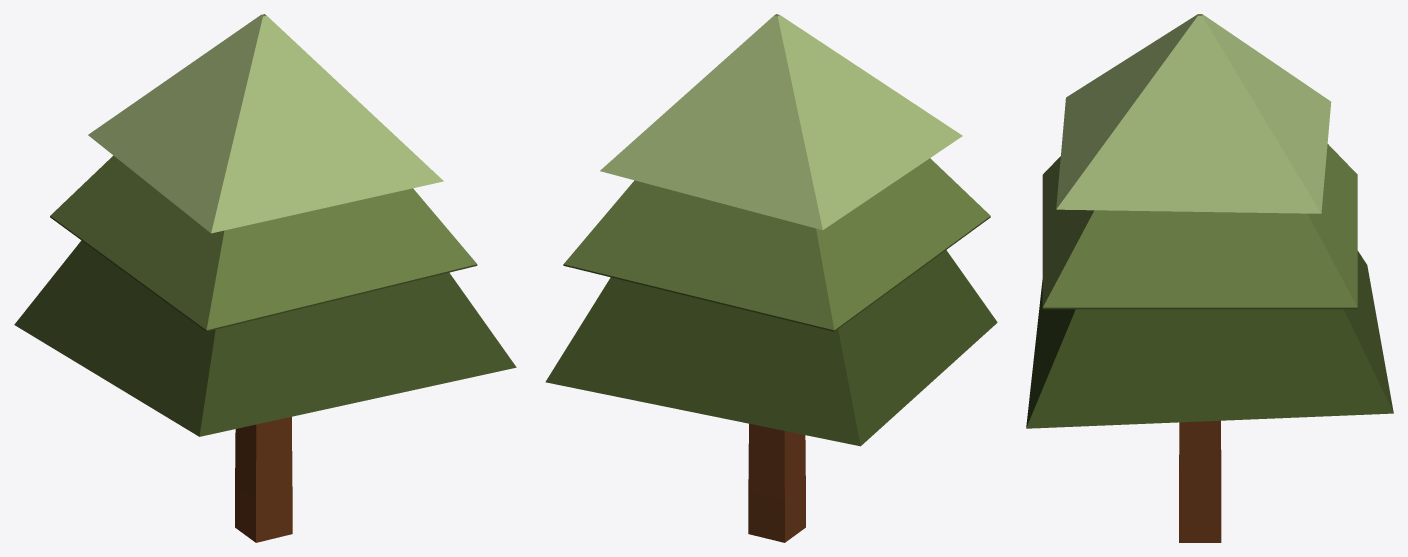
Rendered from Tree.fbx.
The picture shows the model from 3 angles, left to right: view 1: azimuth 30°, elevation 25°; view 2: azimuth 150°, elevation 25°; view 3: azimuth 270°, elevation 25°; orthographic projection.
Parts seen in each view (by area): view 1: Cube; view 2: Cube; view 3: Cube.
Boxes of the visible parts, x1,y1,x2,y2 form: Cube: [14, 14, 516, 542]; Cube: [545, 14, 997, 542]; Cube: [1026, 14, 1393, 542].
Bounding box in the file's own units: 281 × 415 × 266.
1 material, 1 textured.
